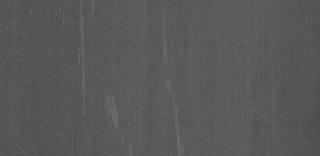silk spot: (154, 12, 192, 154), (68, 9, 94, 121), (106, 90, 124, 128)
